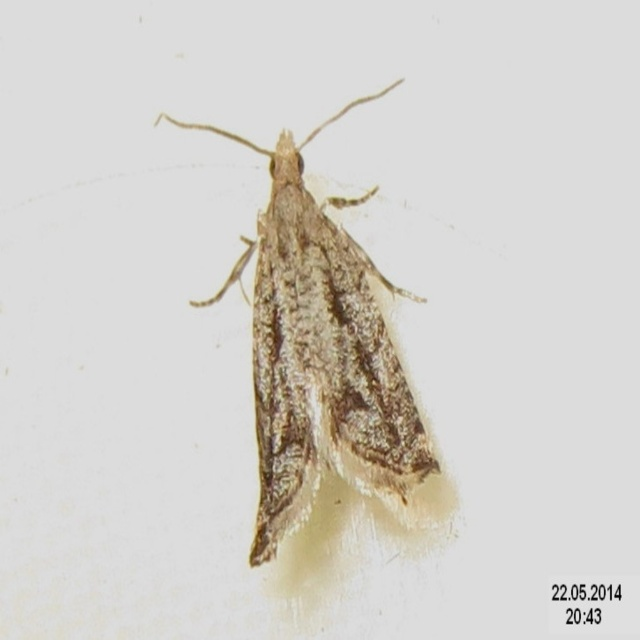Moths and butterflies: (152, 74, 461, 571)
